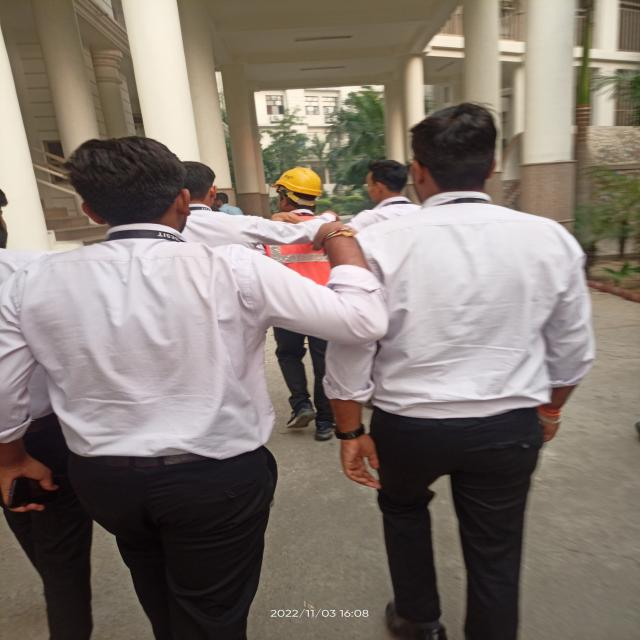safe: (260, 167, 348, 441)
unsafe: (2, 135, 377, 640), (320, 102, 596, 640), (176, 160, 309, 310)
